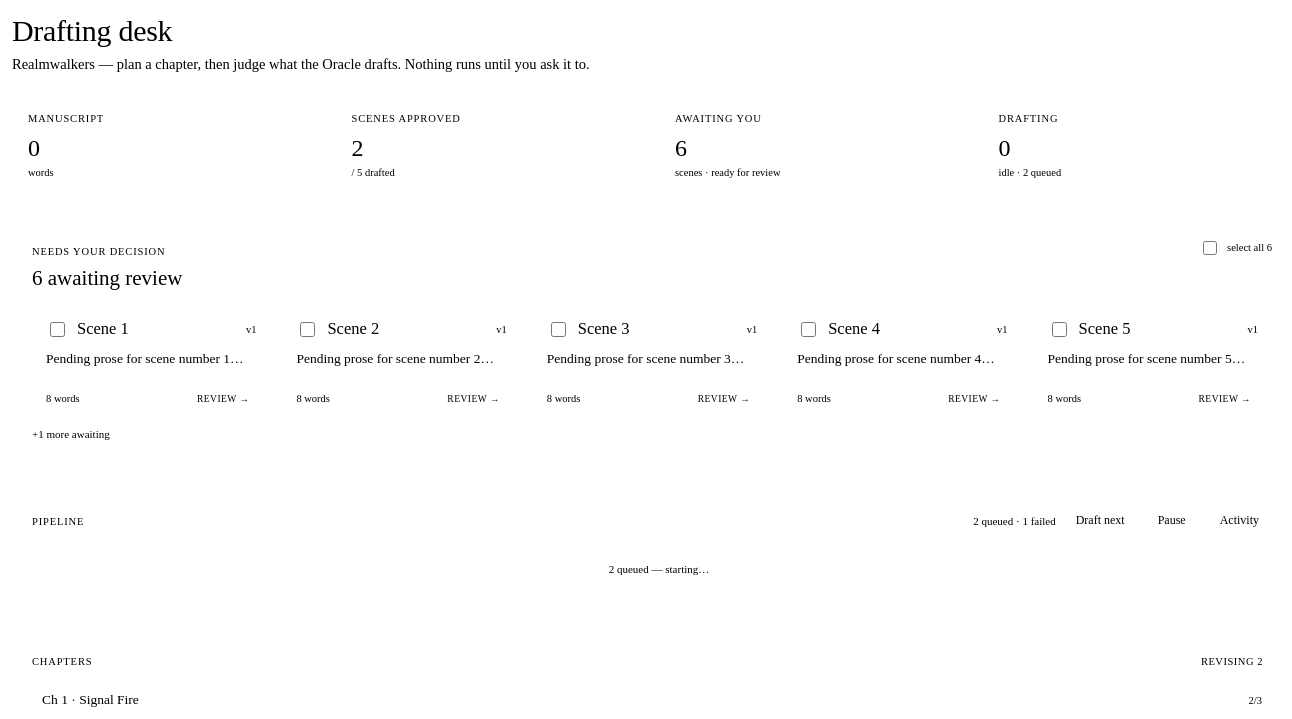
it: InboxScreen command center › lists the first five pending scenes and select-all covers ALL pending, not just the visible
expect the text "Needs your decision" is shown: met, box [32,246,165,257]
expect the text "6 awaiting review" is shown: met, box [32,266,182,290]
Step 1. Click the checkbox labelled "select all 6" → (1210, 248), box [1203,241,1217,255]
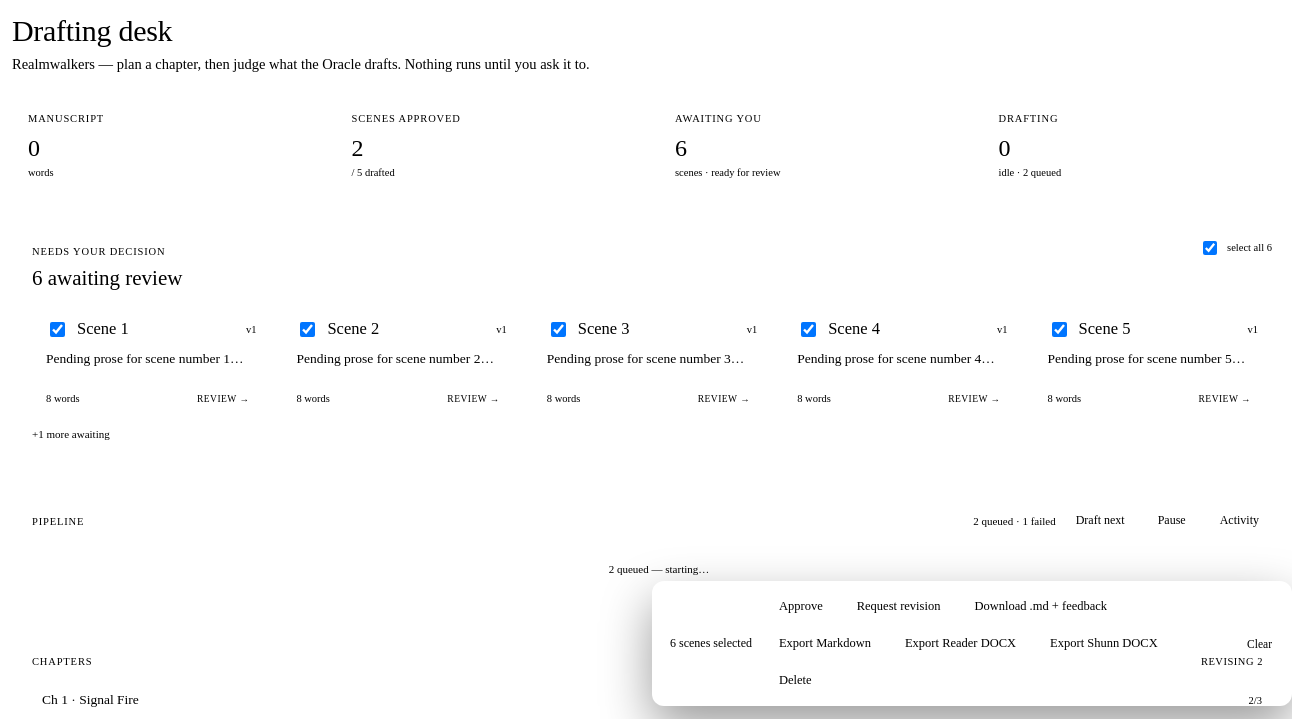
expect the text "6 scenes selected" is shown: met, box [670,636,752,651]
